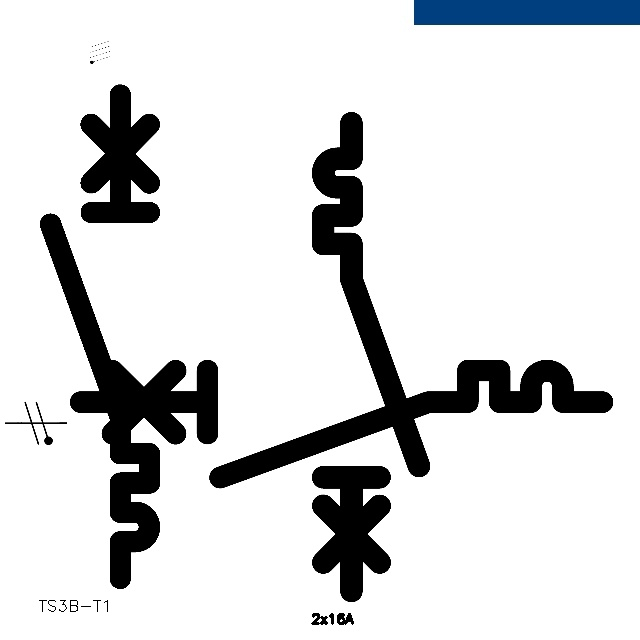interruptor_termomagnetico: (67, 357, 616, 491), (38, 82, 162, 590), (311, 111, 431, 603)
